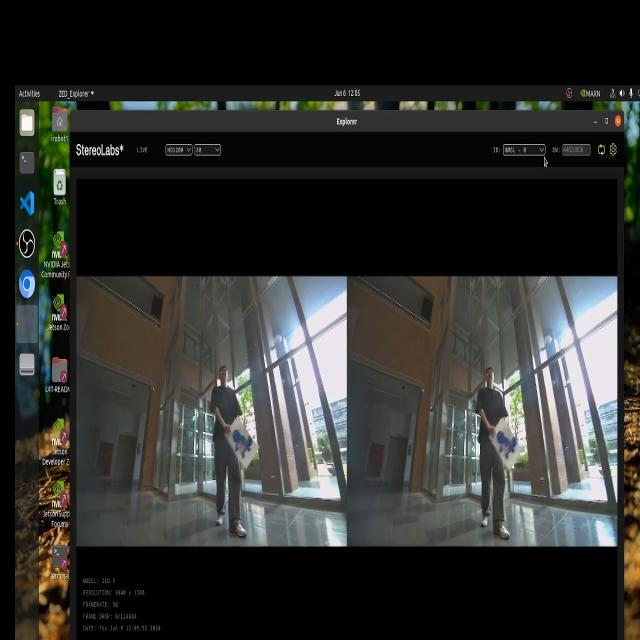blue: (492, 424, 525, 466), (225, 428, 258, 462)
